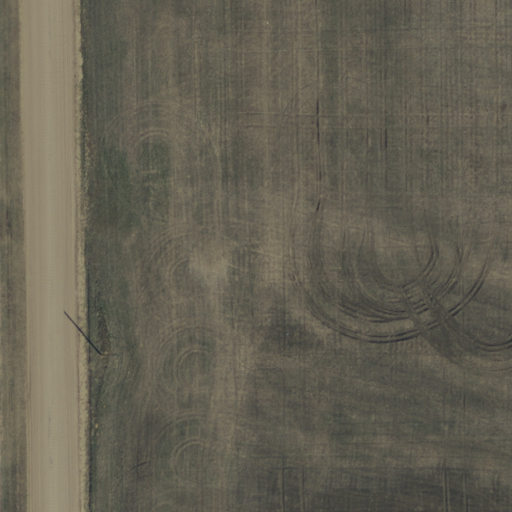DT: (91, 341, 116, 363)
